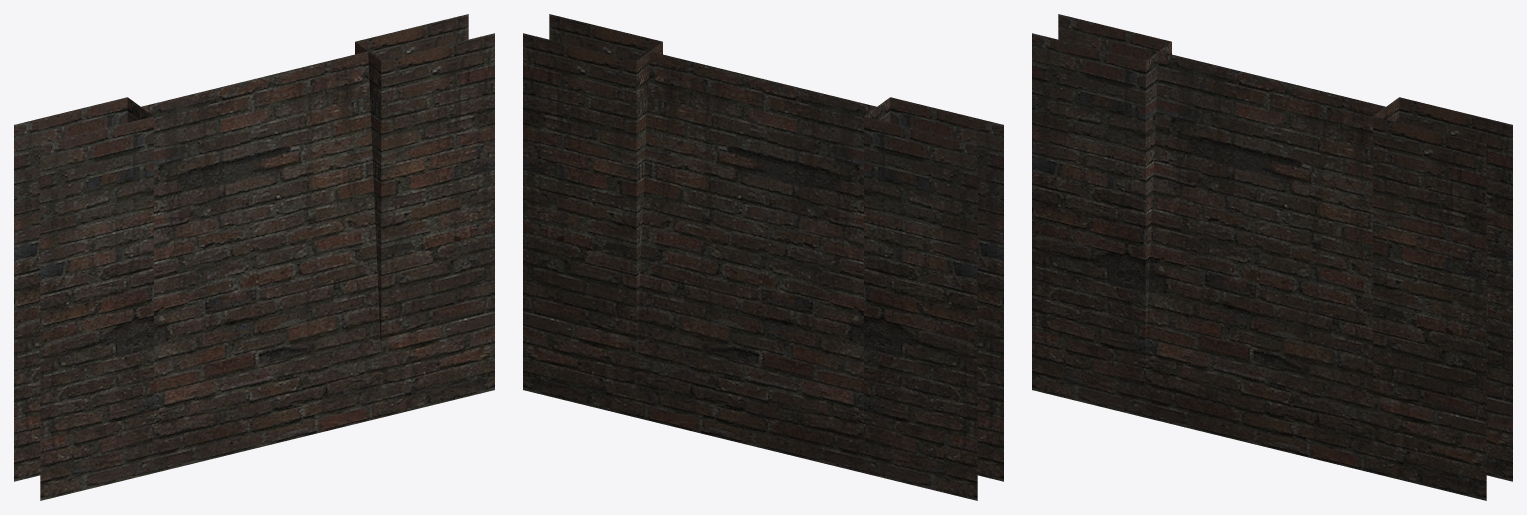
The model's file is wall_hs_1_t_1.dae.
3 renders of one model, left to right at view 1: azimuth 30°, elevation 25°; view 2: azimuth 150°, elevation 25°; view 3: azimuth 330°, elevation 25°, orthographic.
Parts seen in each view (by area): view 1: wall_hs_1_t_1; view 2: wall_hs_1_t_1; view 3: wall_hs_1_t_1.
Part boxes in pixels (left/top/right/bottom): wall_hs_1_t_1: left=14, top=14, right=494, bottom=500; wall_hs_1_t_1: left=523, top=14, right=1003, bottom=500; wall_hs_1_t_1: left=1032, top=14, right=1512, bottom=500.
Bounding box in the file's own units: 4 × 0.4 × 3.
Materials: 1 (1 with a texture image).
